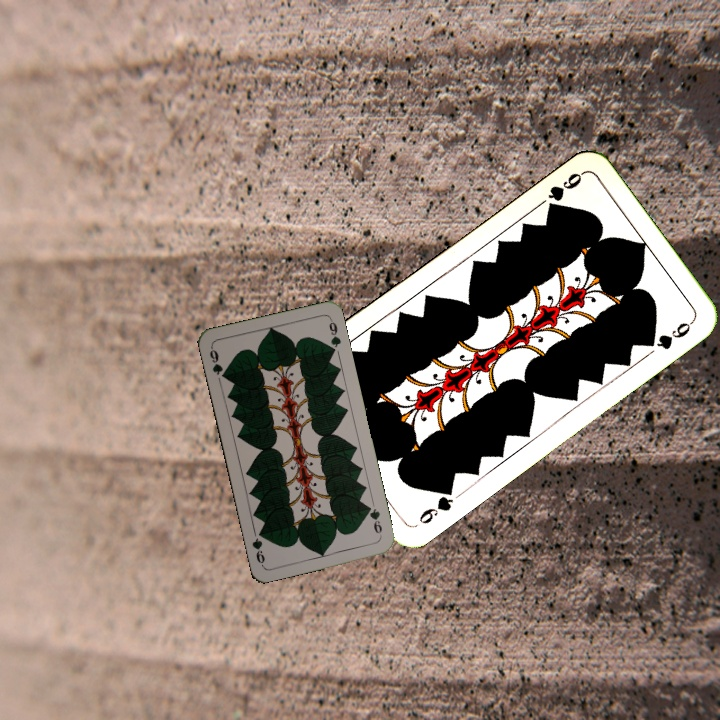G9: (543, 168, 586, 213), (415, 482, 456, 527), (205, 343, 229, 382), (363, 501, 385, 539)
